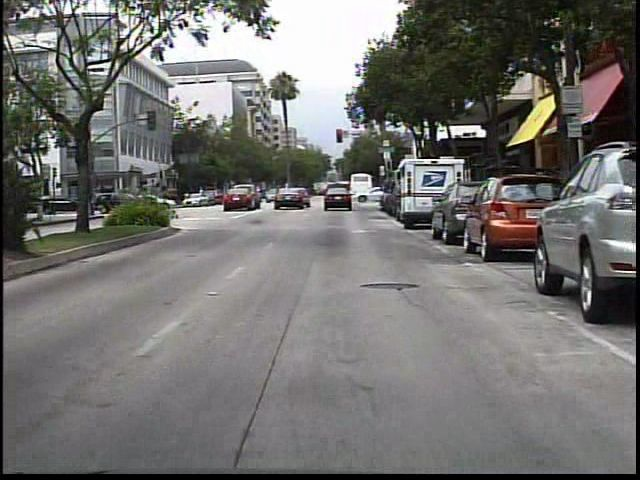person: (271, 182, 285, 206)
